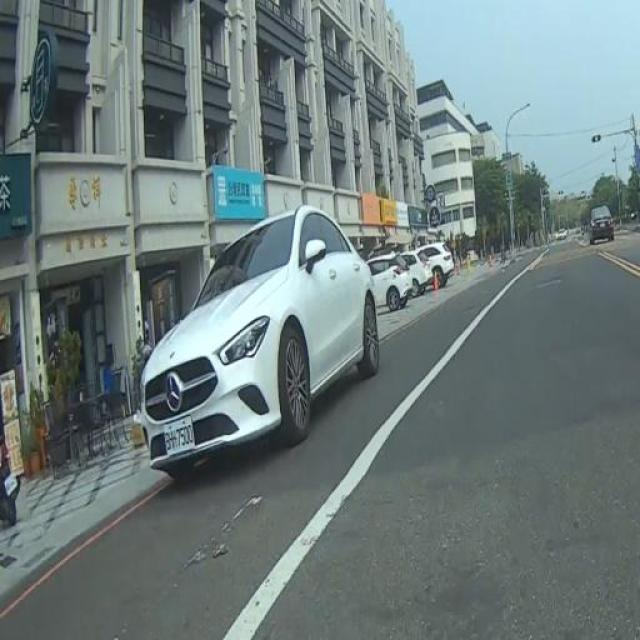Legalparking: (112, 186, 407, 490)
